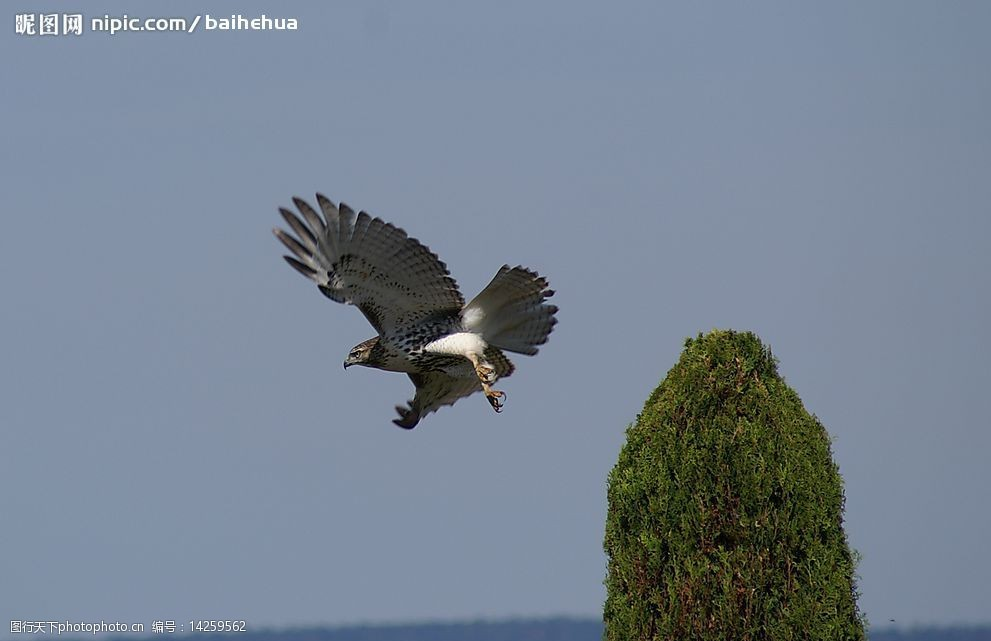bird: (265, 186, 563, 428)
